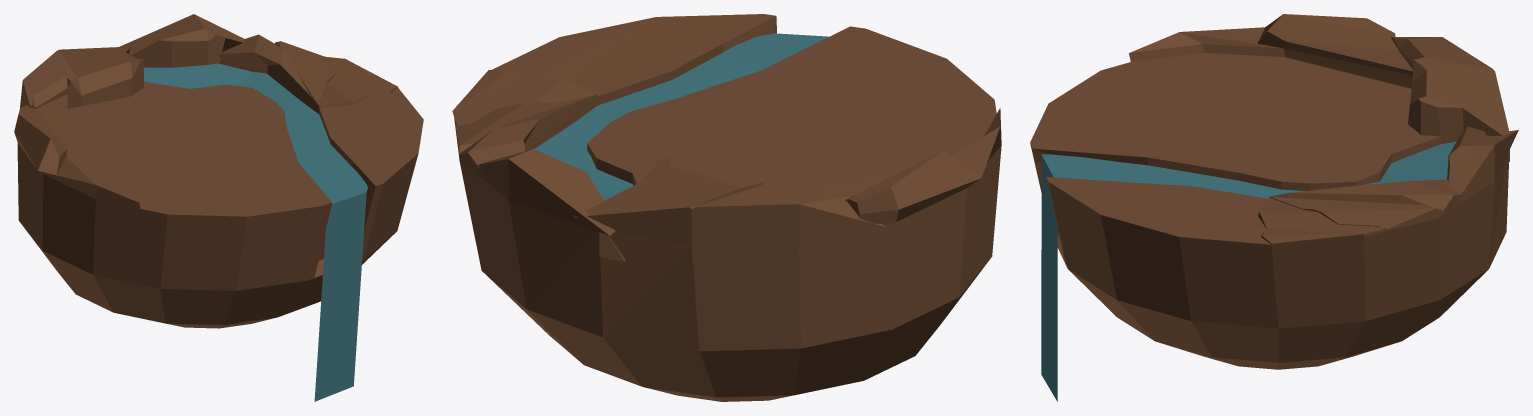
Rendered from dioramabase.fbx.
3 views of the same model, side by side, from view 1: azimuth 30°, elevation 25°; view 2: azimuth 150°, elevation 25°; view 3: azimuth 270°, elevation 25° (orthographic). The views are drawn at different scales.
Visible parts, largest first — view 1: Cylinder, Plane; view 2: Cylinder, Plane; view 3: Cylinder, Plane.
Part boxes in pixels (left/top/right/bottom): Cylinder: left=14, top=14, right=423, bottom=328; Plane: left=144, top=63, right=367, bottom=401; Cylinder: left=452, top=14, right=1001, bottom=401; Plane: left=534, top=33, right=828, bottom=200; Cylinder: left=1030, top=14, right=1518, bottom=369; Plane: left=1041, top=141, right=1456, bottom=401.
Bounding box in the file's own units: 3095 × 1877 × 3063.
